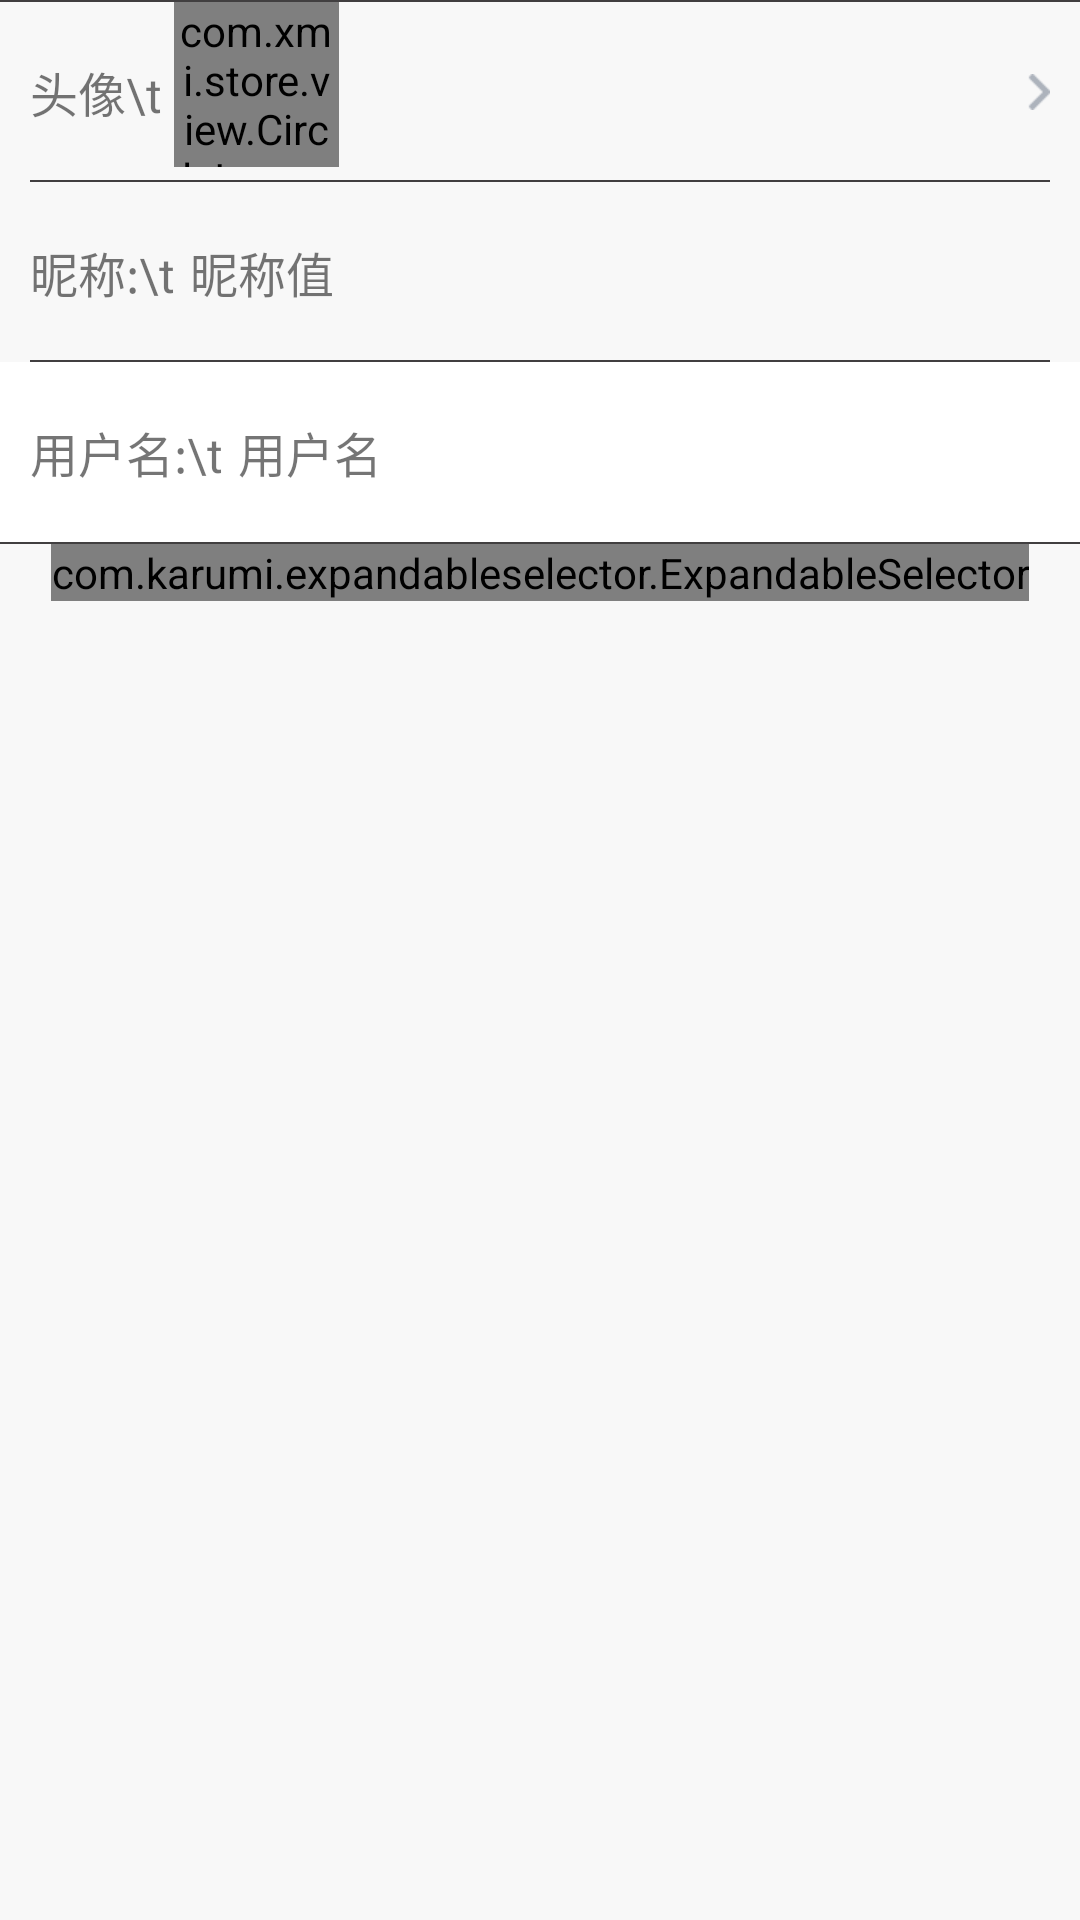

Icons on this 1080*1920 Android screen, each with the point to tap as (x,y):
discover jump: (1039,92)
